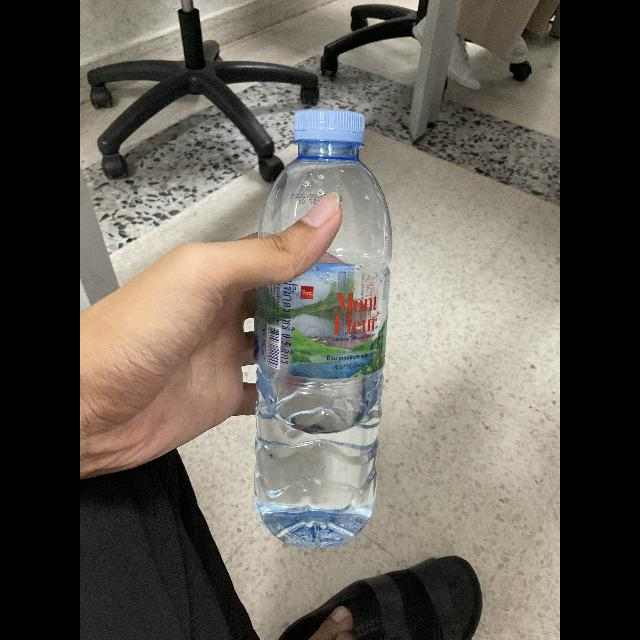plastic_bottle: (256, 107, 392, 551)
plastic_bottle_cap: (288, 110, 368, 148)
